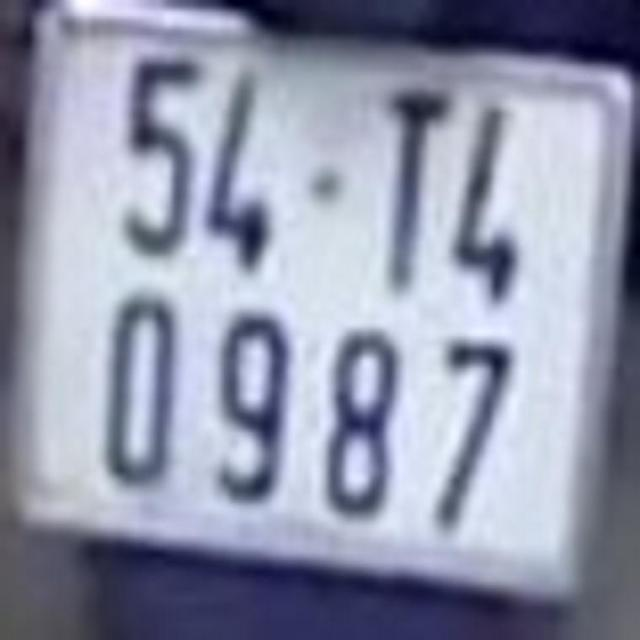0: (102, 288, 176, 483)
4: (207, 58, 277, 266), (457, 100, 522, 304)
5: (126, 50, 202, 264)
7: (436, 330, 512, 528)
8: (324, 322, 394, 516)
9: (216, 304, 290, 504)
T: (376, 80, 451, 295)
